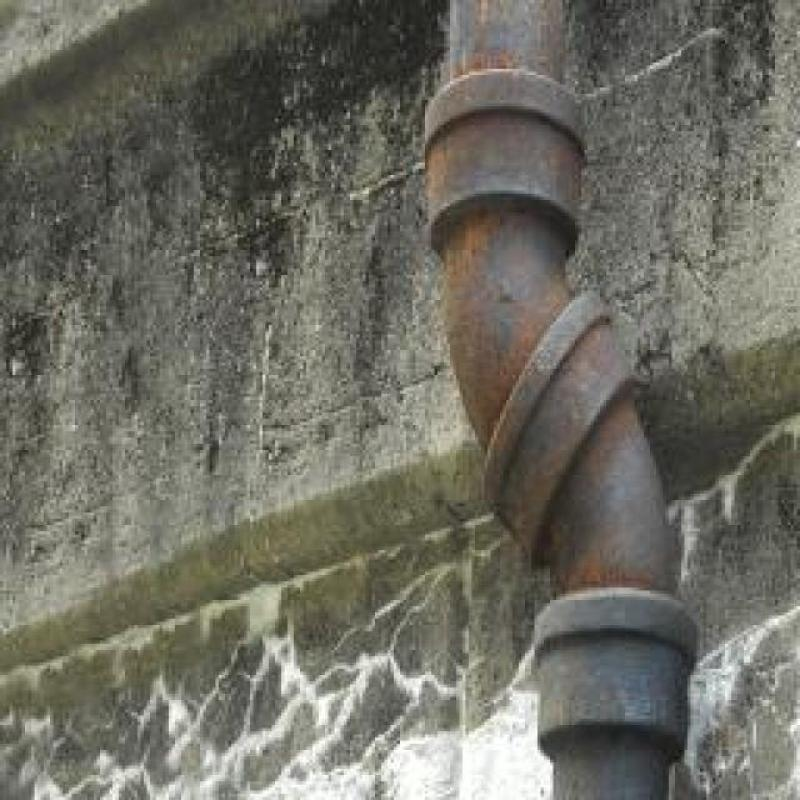corrosion: (454, 312, 585, 407), (552, 556, 675, 603)
